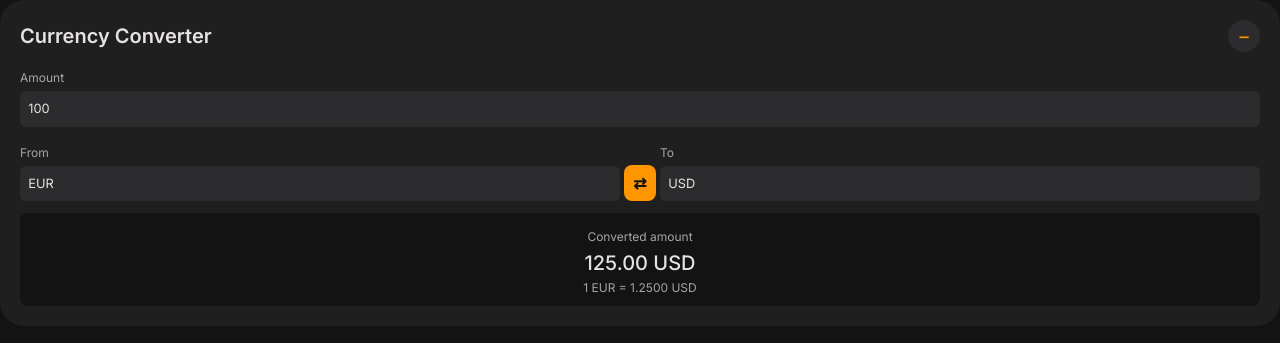
it: CurrencySection › swaps the selected currencies
Click the button with test id "swap-currencies".
click(640, 183)  # box x1=624 y1=165 x2=656 y2=201
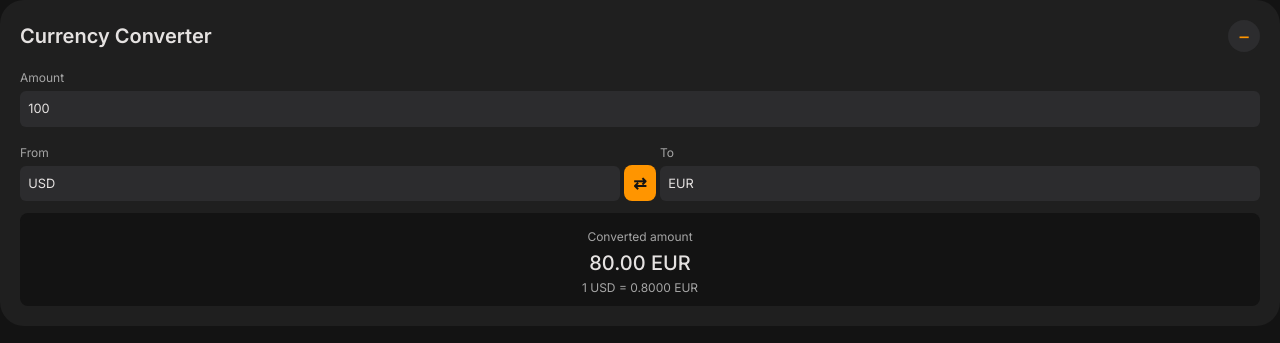
Expected: the dropdown with test id "from-currency" shows "USD", x1=20 y1=166 x2=620 y2=201
Expected: the dropdown with test id "to-currency" shows "EUR", x1=660 y1=166 x2=1260 y2=201
